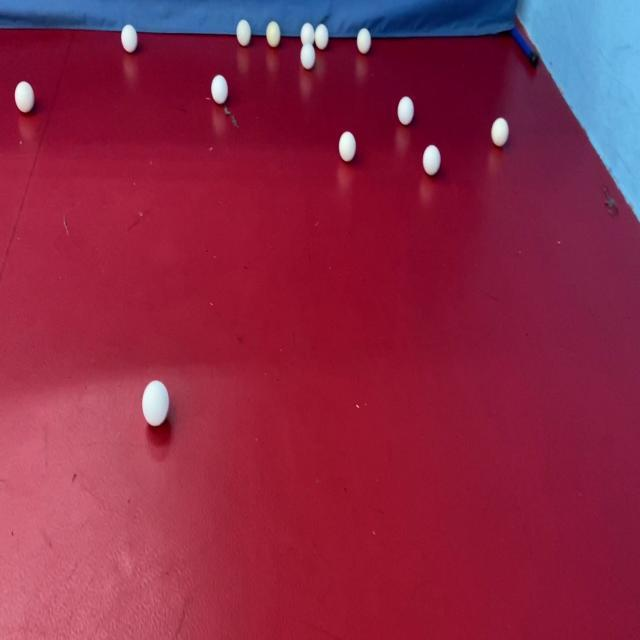ping-pong-ball: (138, 368, 174, 432), (111, 16, 149, 66), (332, 122, 362, 168), (12, 71, 38, 124), (484, 108, 514, 150), (419, 134, 443, 186), (392, 87, 418, 133), (208, 68, 230, 111), (352, 22, 376, 58), (232, 14, 254, 51), (296, 38, 316, 74), (264, 16, 282, 51), (297, 16, 316, 48), (316, 18, 332, 52)
